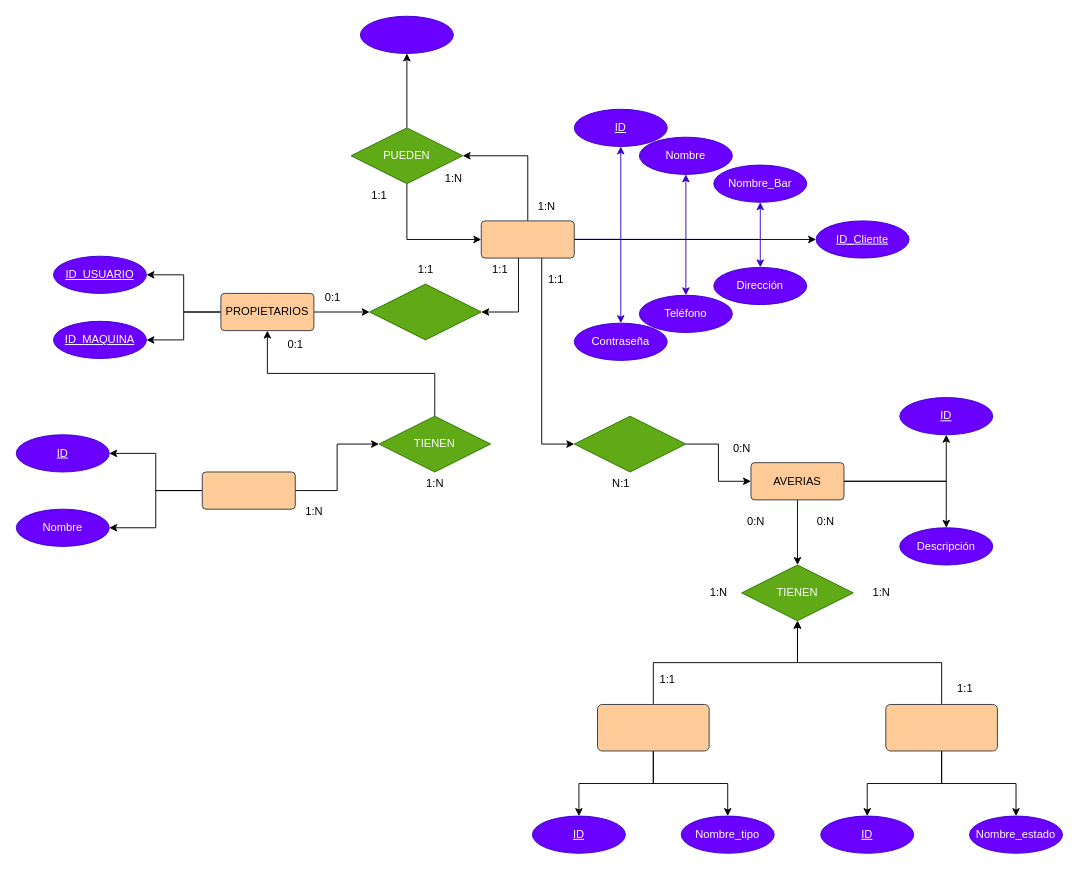
The diagram is 1079 pixels wide and 870 high, and some of its shapes have lost their labels. Here are the shapes that lost their labels. From the top down, the centre of each, then its label:
At (406,34): "Es_admin".
At (527,239): "USUARIOS".
At (425,311): "SON".
At (629,443): "REGISTRAN".
At (248,490): "MÁQUINAS".
At (653,727): "TIPO_AVERIAS".
At (941,727): "ESTADO_AVERIAS".
